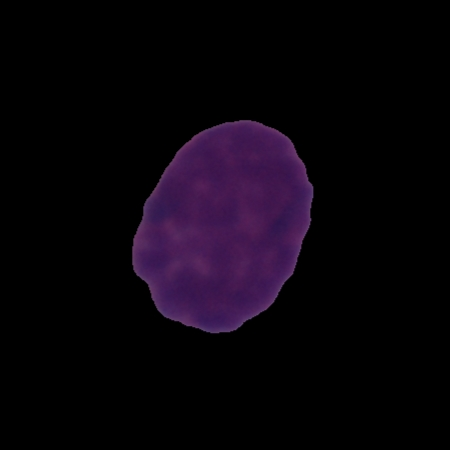ALL: (128, 115, 317, 336)
